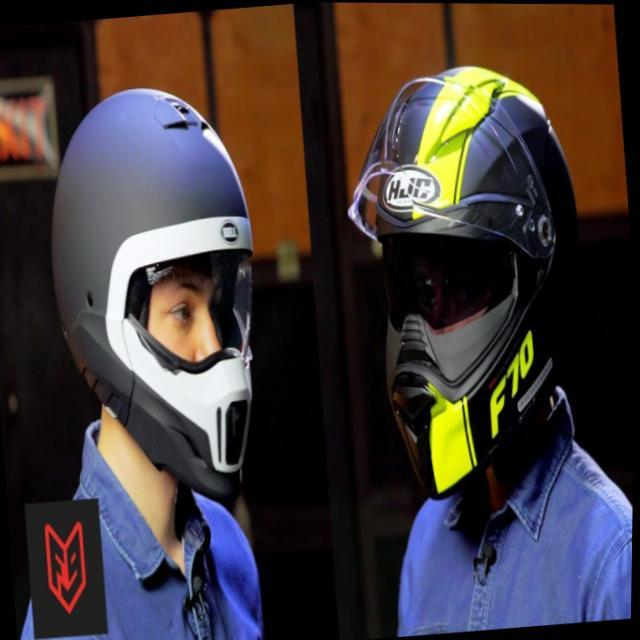Helmet: (340, 55, 580, 507), (47, 84, 260, 497)
